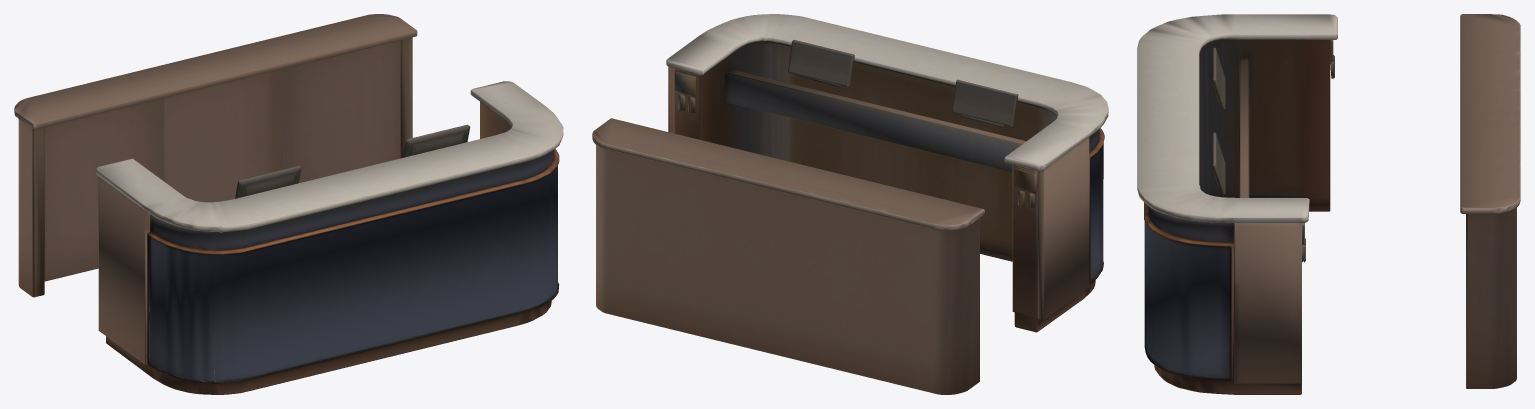
The model's file is balcao_recepcao.glb.
The picture shows the model from 3 angles, left to right: view 1: azimuth 30°, elevation 25°; view 2: azimuth 150°, elevation 25°; view 3: azimuth 270°, elevation 25°; orthographic projection. The views are drawn at different scales.
Visible parts, largest first — view 1: Balcão de recepção executivo; view 2: Balcão de recepção executivo; view 3: Balcão de recepção executivo.
Boxes of the visible parts, x1,y1,x2,y2 form: Balcão de recepção executivo: [14, 14, 563, 394]; Balcão de recepção executivo: [592, 14, 1108, 394]; Balcão de recepção executivo: [1137, 14, 1520, 394].
Bounding box in the file's own units: 0.998 × 0.4395 × 0.7949.
1 material, 1 textured.
